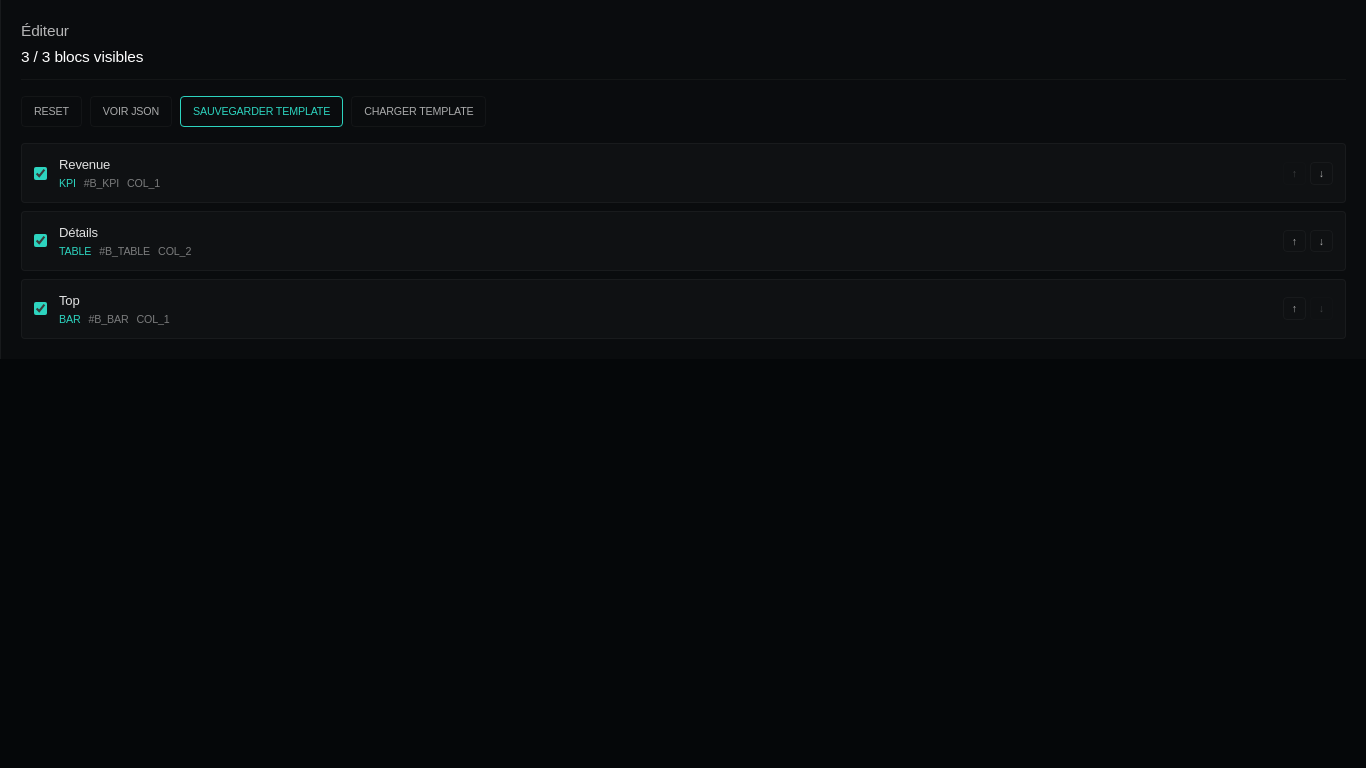
Test: ReportEditor — preview JSON › le bouton Voir JSON affiche le spec sérialisé en pre
Click the button with test id "report-editor-json-toggle". click: (131, 112)
box: [90,96,172,127]
(page scrolled)
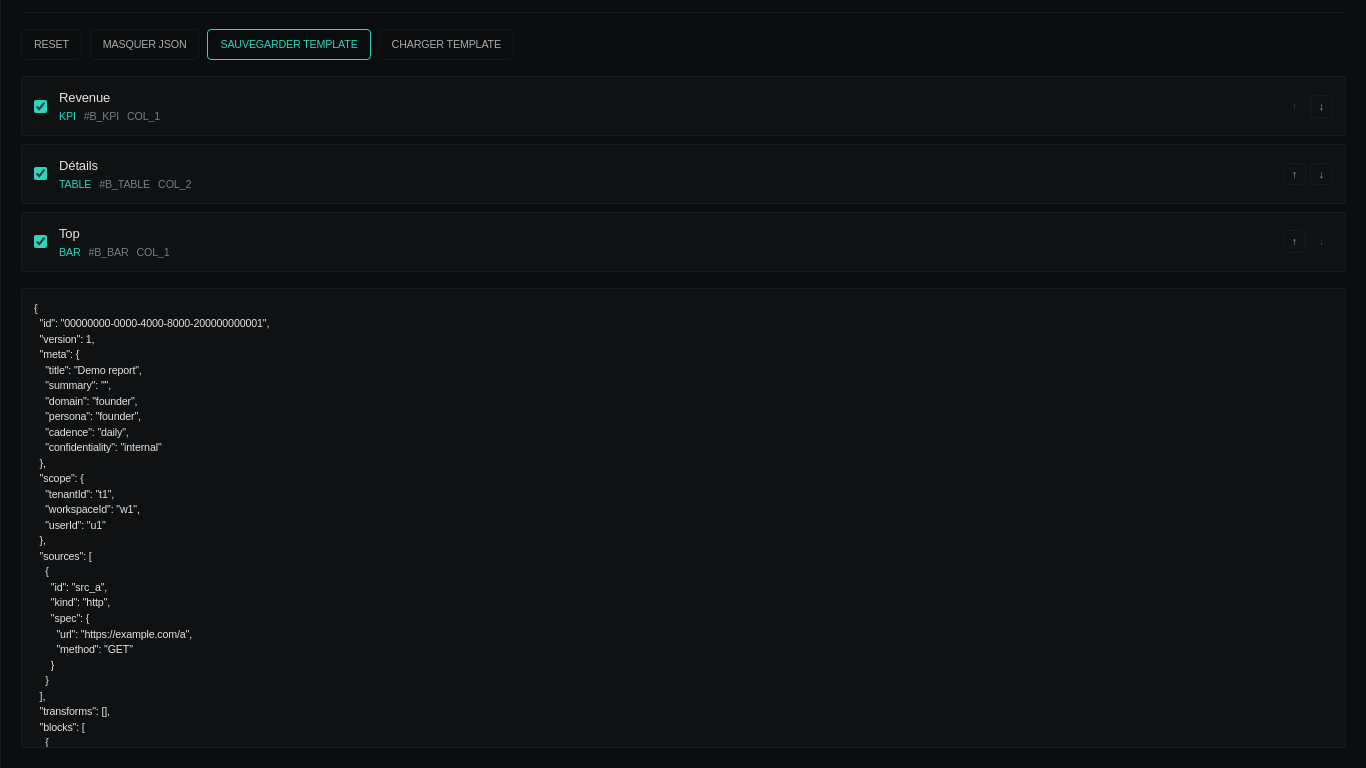
Expected: the text with test id "report-editor-json" is shown, [21,288,1346,748]
